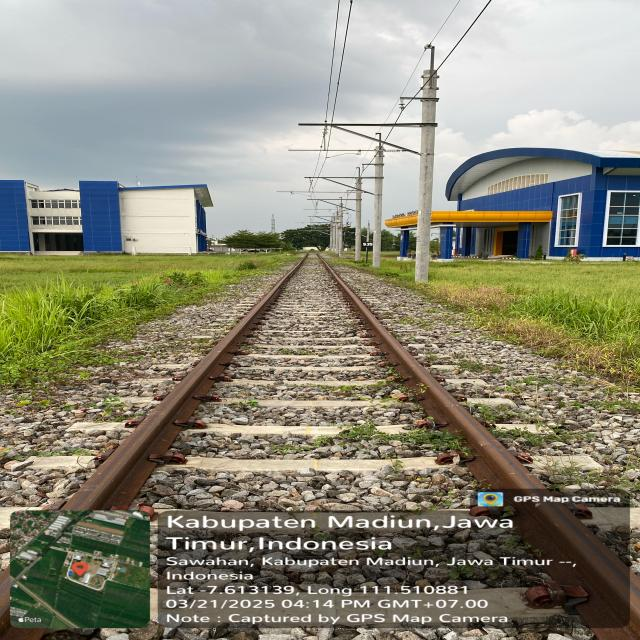rail-detection: (317, 253, 640, 640), (61, 253, 307, 510)
